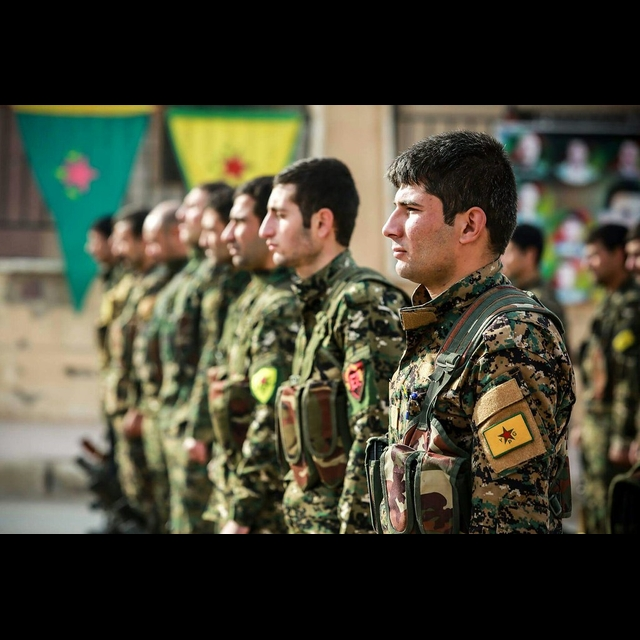YPG: (494, 422, 519, 448)
